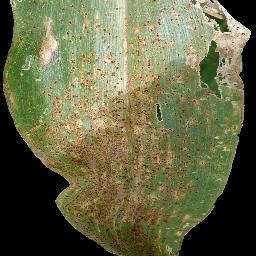Corn_Common_Rust: (0, 0, 251, 74), (3, 74, 247, 132), (19, 134, 254, 193), (56, 194, 217, 256)
